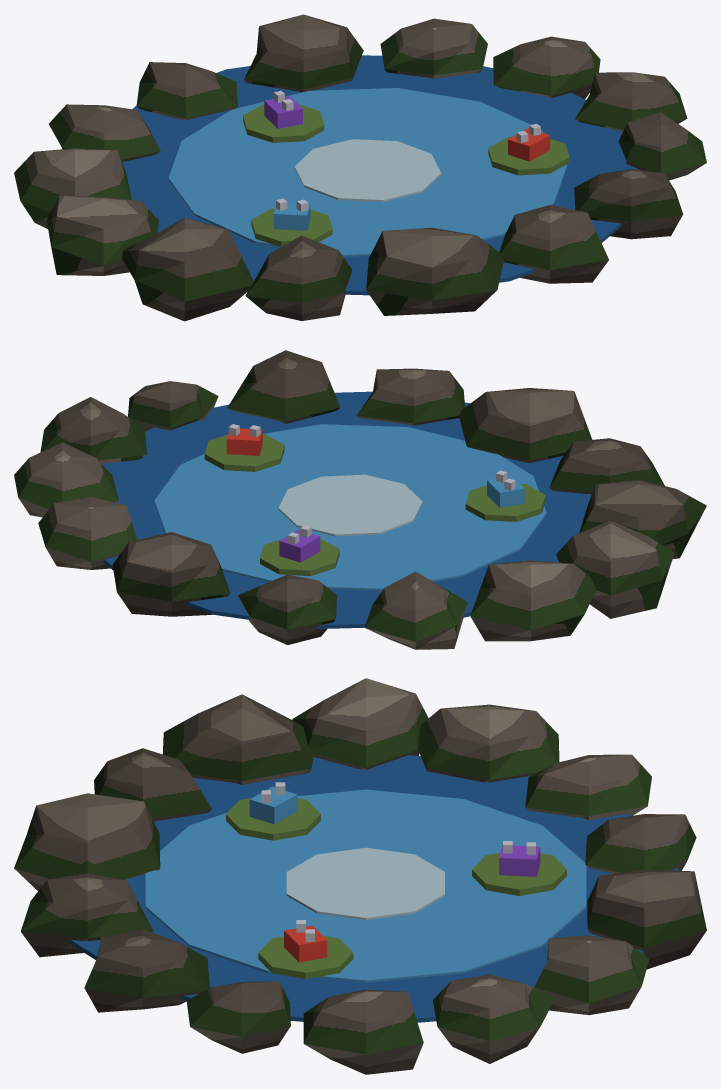
File: frog_pond.glb
3 views of the same model, one above another, from view 1: azimuth 30°, elevation 25°; view 2: azimuth 150°, elevation 25°; view 3: azimuth 270°, elevation 25° (orthographic). The views are drawn at different scales.
Visible parts, largest first — view 1: frog_pond; view 2: frog_pond; view 3: frog_pond.
Part boxes in pixels (left/top/right/bottom): frog_pond: left=14, top=14, right=706, bottom=321; frog_pond: left=14, top=350, right=706, bottom=649; frog_pond: left=14, top=678, right=706, bottom=1074.
Bounding box in the file's own units: 3.45 × 0.4024 × 2.91.
Materials: 3 (1 with a texture image).
